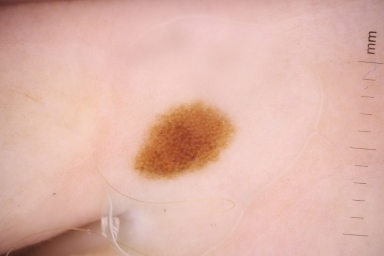melanoma: (135, 101, 237, 181)
